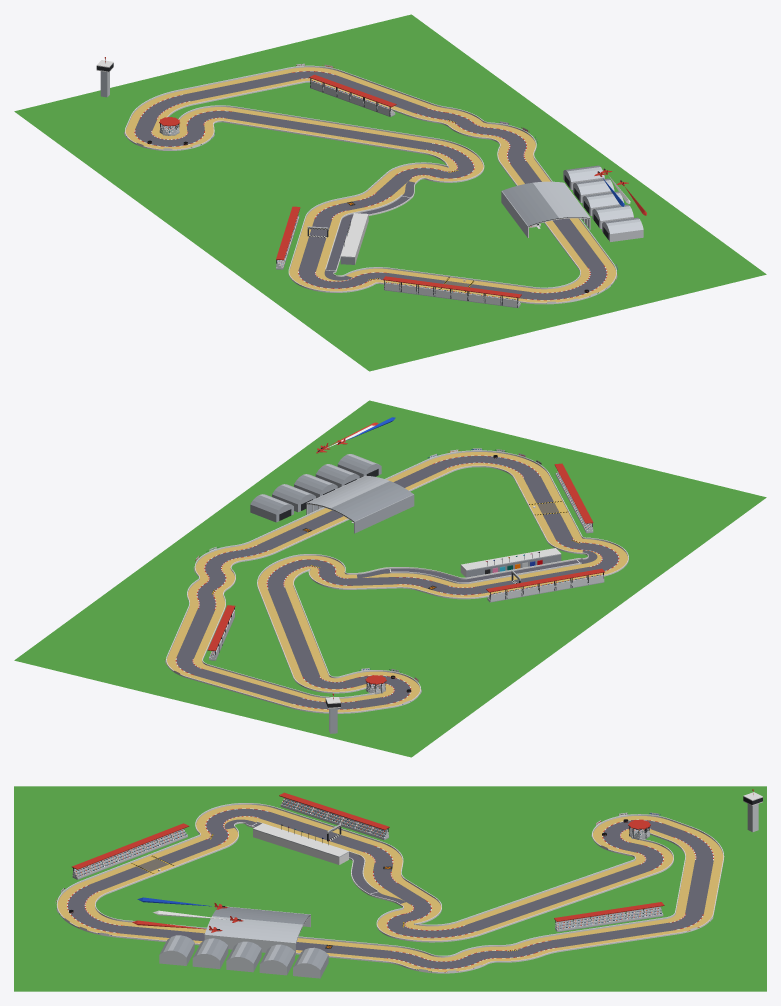
The model's file is goldstone.glb.
3 renders of one model, top to bottom at view 1: azimuth 30°, elevation 25°; view 2: azimuth 150°, elevation 25°; view 3: azimuth 270°, elevation 25°, orthographic. The views are drawn at different scales.
Visible parts, largest first — view 1: Grass, Asphalt, SandLeft, SandRight, WallLeft, WallRight, Prop.hangars.beam-top, Grandstand.stand-riser, Grandstand.kerb-red, Prop.hangar-shell.beam-shade, Prop.hangar-shell.beam-top, PitLane (+2 smaller); view 2: Grass, Asphalt, SandLeft, SandRight, WallLeft, WallRight, Prop.hangars.beam-shade, Grandstand.kerb-red, Prop.hangar-shell.beam-shade, Grandstand.stand-riser, Prop.hangars.stand-plinth, PitLane (+3 smaller); view 3: Grass, Asphalt, SandLeft, SandRight, WallLeft, Grandstand.stand-riser, WallRight, Grandstand.kerb-red, Prop.hangars.stand-riser, Prop.hangar-shell.beam-top, Prop.pits.wall, Prop.hangars.beam-shade (+9 smaller).
Part boxes in pixels (bbox=[...]): Grass: bbox=[14, 14, 766, 371]; Asphalt: bbox=[135, 71, 606, 299]; SandLeft: bbox=[125, 67, 616, 302]; SandRight: bbox=[152, 78, 589, 292]; WallLeft: bbox=[125, 65, 616, 304]; WallRight: bbox=[167, 81, 580, 289]; Prop.hangars.beam-top: bbox=[567, 167, 643, 233]; Grandstand.stand-riser: bbox=[159, 81, 520, 307]; Grandstand.kerb-red: bbox=[159, 74, 521, 297]; Prop.hangar-shell.beam-shade: bbox=[502, 182, 558, 226]; Prop.hangar-shell.beam-top: bbox=[533, 181, 589, 218]; PitLane: bbox=[324, 181, 414, 280]; Grass: bbox=[14, 400, 766, 757]; Asphalt: bbox=[176, 456, 618, 709]; SandLeft: bbox=[167, 452, 627, 712]; SandRight: bbox=[193, 463, 601, 702]; WallLeft: bbox=[166, 450, 628, 713]; WallRight: bbox=[202, 465, 582, 698]; Prop.hangars.beam-shade: bbox=[250, 455, 372, 514]; Grandstand.kerb-red: bbox=[208, 463, 604, 683]; Prop.hangar-shell.beam-shade: bbox=[331, 481, 413, 521]; Grandstand.stand-riser: bbox=[209, 472, 604, 693]; Prop.hangars.stand-plinth: bbox=[250, 464, 381, 522]; PitLane: bbox=[357, 550, 597, 582]; Grass: bbox=[14, 786, 766, 991]; Asphalt: bbox=[68, 809, 713, 968]; SandLeft: bbox=[57, 804, 723, 971]; SandRight: bbox=[85, 816, 695, 961]; WallLeft: bbox=[56, 803, 724, 973]; Grandstand.stand-riser: bbox=[72, 798, 663, 931]; WallRight: bbox=[95, 826, 685, 957]; Grandstand.kerb-red: bbox=[72, 792, 663, 921]; Prop.hangars.stand-riser: bbox=[159, 950, 320, 978]; Prop.hangar-shell.beam-top: bbox=[205, 916, 302, 942]; Prop.pits.wall: bbox=[253, 823, 348, 864]; Prop.hangars.beam-shade: bbox=[173, 935, 328, 969].
Bounding box in the file's own units: 312 × 37.1 × 484.
